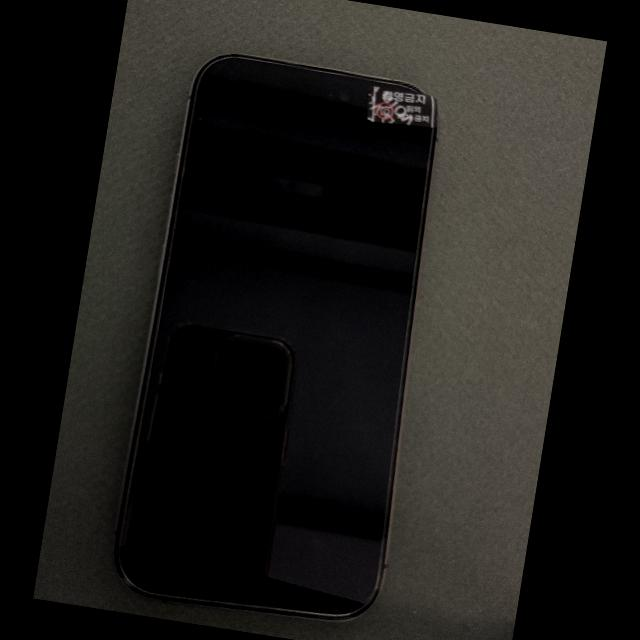lens: (339, 91, 349, 102)
phone: (112, 55, 438, 622)
sticker: (367, 87, 437, 128)
